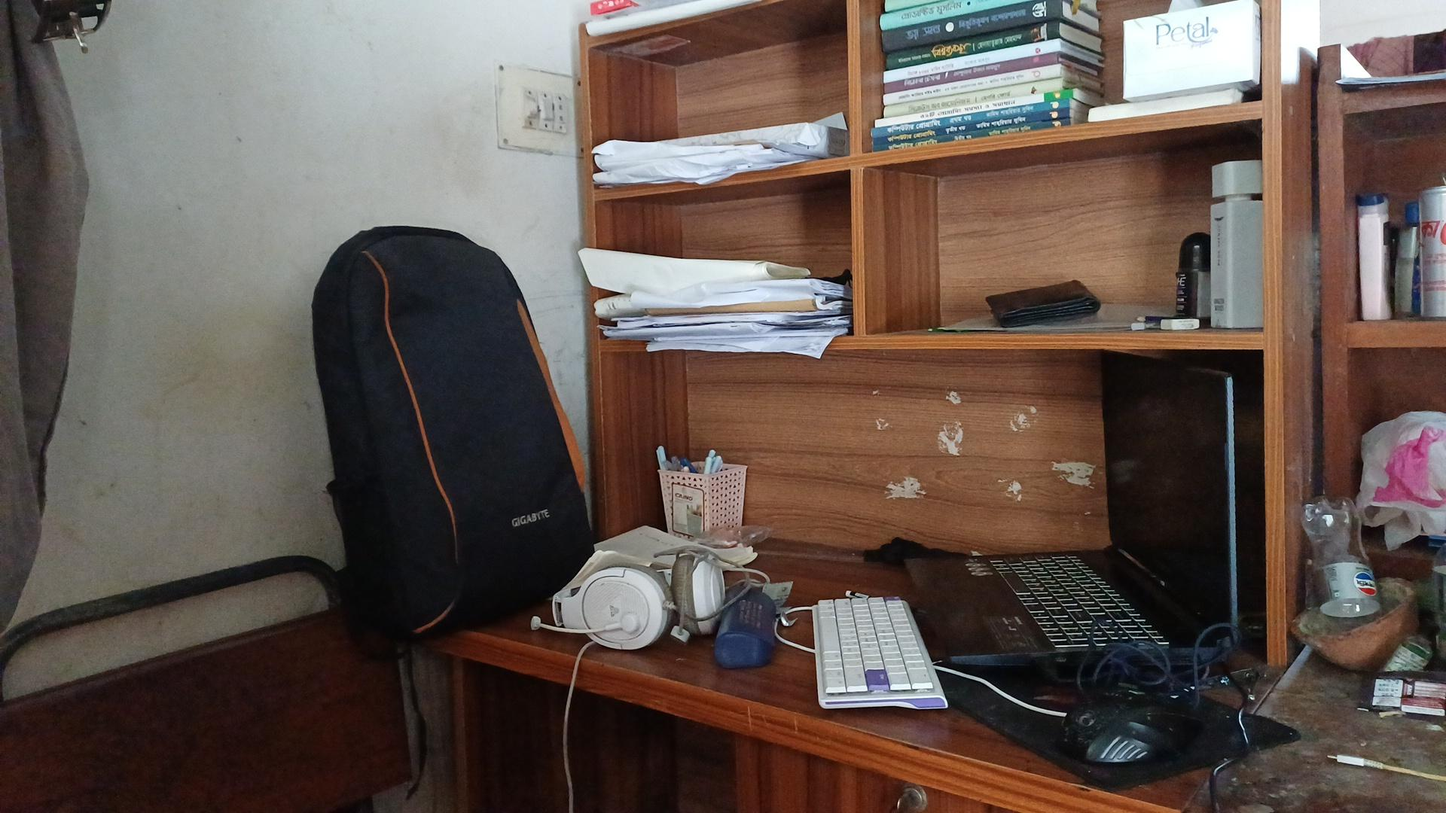Bag: (265, 209, 598, 541)
Book: (876, 6, 1093, 149)
Bottle: (1206, 155, 1287, 341), (1302, 487, 1389, 643)
Keyboard: (931, 341, 1290, 656), (802, 587, 943, 722)
Moneybag: (970, 267, 1104, 330)
Mouse: (1062, 679, 1229, 790)
Pen Stand: (658, 433, 752, 538)
